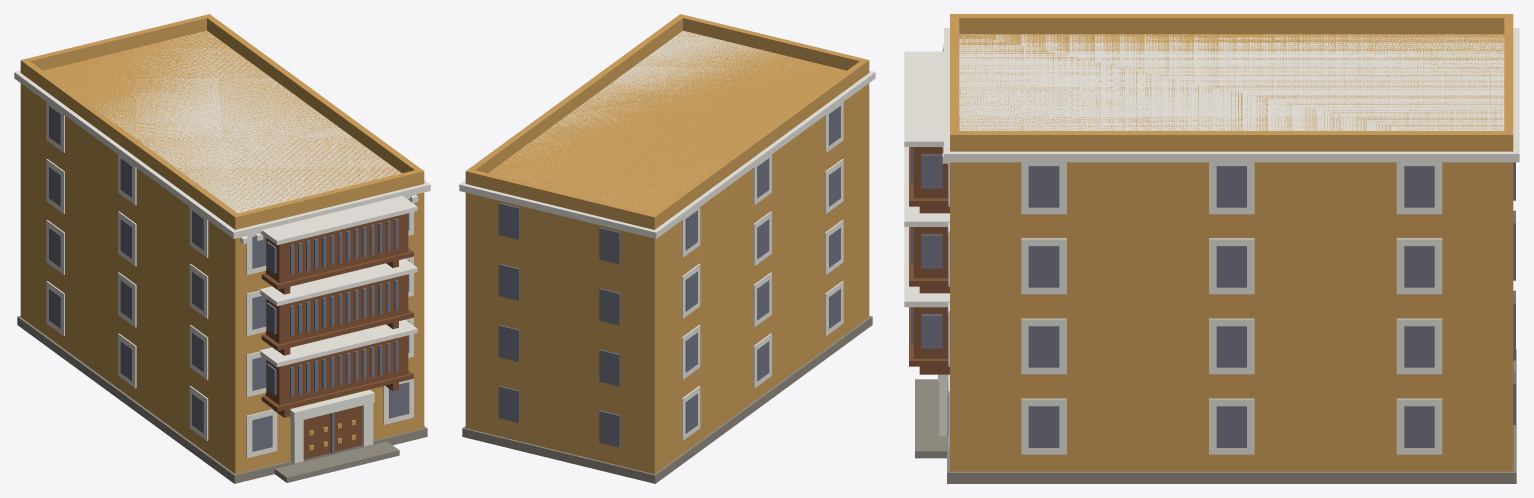
File: house-1x2-4f-quincha-a.glb
3 views of the same model, side by side, from view 1: azimuth 30°, elevation 25°; view 2: azimuth 150°, elevation 25°; view 3: azimuth 270°, elevation 25° (orthographic). The views are drawn at different scales.
Parts seen in each view (by area): view 1: house-1x2-4f-quincha-a; view 2: house-1x2-4f-quincha-a; view 3: house-1x2-4f-quincha-a.
Part boxes in pixels (x1,y1,x2,y2): house-1x2-4f-quincha-a: [14, 14, 430, 483]; house-1x2-4f-quincha-a: [459, 14, 875, 483]; house-1x2-4f-quincha-a: [904, 14, 1519, 483].
Bounding box in the file's own units: 0.98 × 1.26 × 2.02.
Materials: 1 (1 with a texture image).
